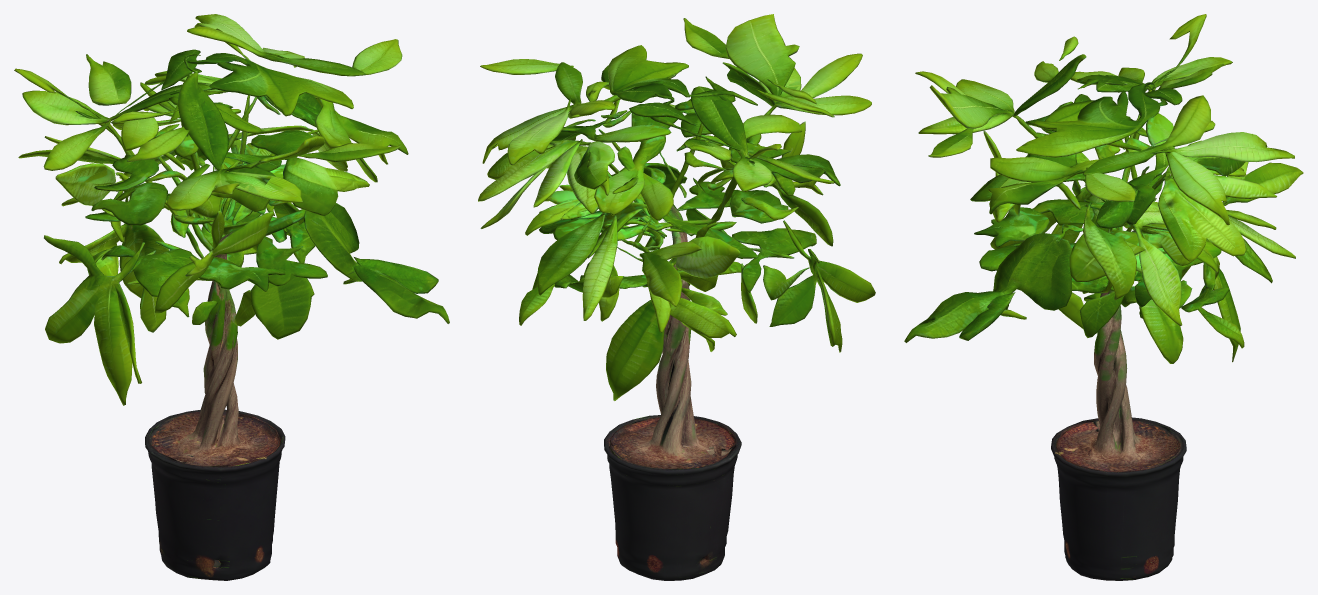
Rendered from observation-tree.glb.
3 renders of one model, left to right at view 1: azimuth 30°, elevation 25°; view 2: azimuth 150°, elevation 25°; view 3: azimuth 270°, elevation 25°, orthographic. The views are drawn at different scales.
Bounding box in the file's own units: 1.41 × 1.91 × 1.42.
1 material, 1 textured.
